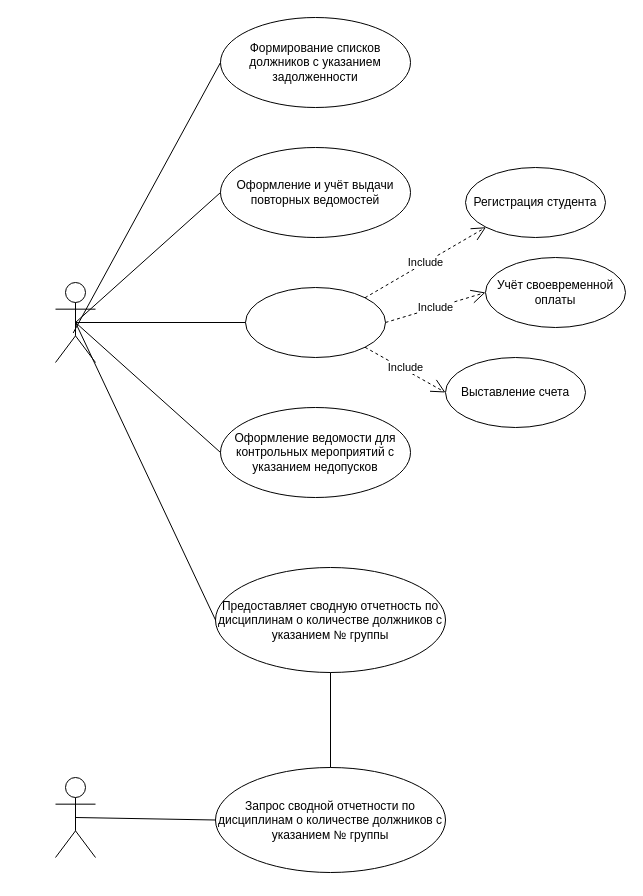
Some shapes in this 643 by 896 pixel diagram are drawn without their labels. The shapes that lost their labels are listed below. From the top down, each one's centre as x and y in pixels, then its label:
the point at 75,322: Сотрудник деканата
the point at 315,322: Учёт студентов
the point at 75,817: Зав. кафедры
